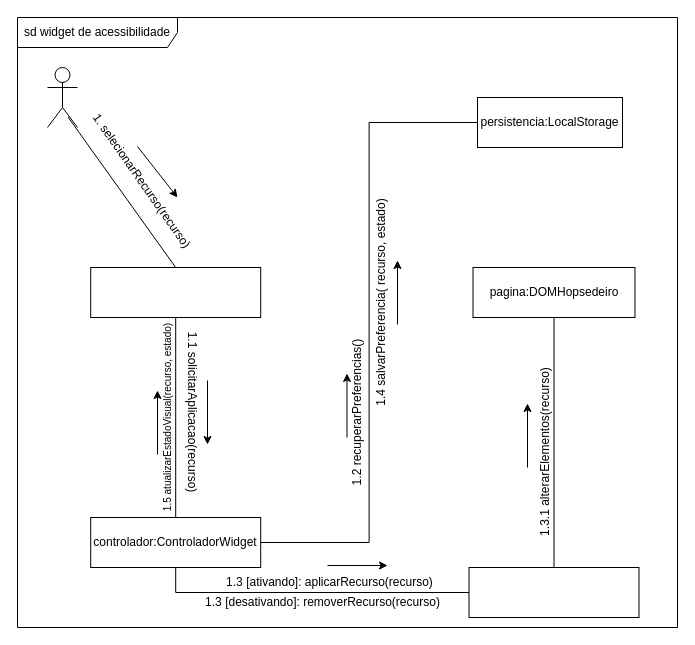
Some shapes in this 695 by 645 pixel diagram are drawn without their labels. The centre of each missing label's shape, as x and y in pixels:
"interface:Widget Acessibilidade" belongs at point (175, 292).
"manipulador:ManipuladorDOM" belongs at point (553, 592).
